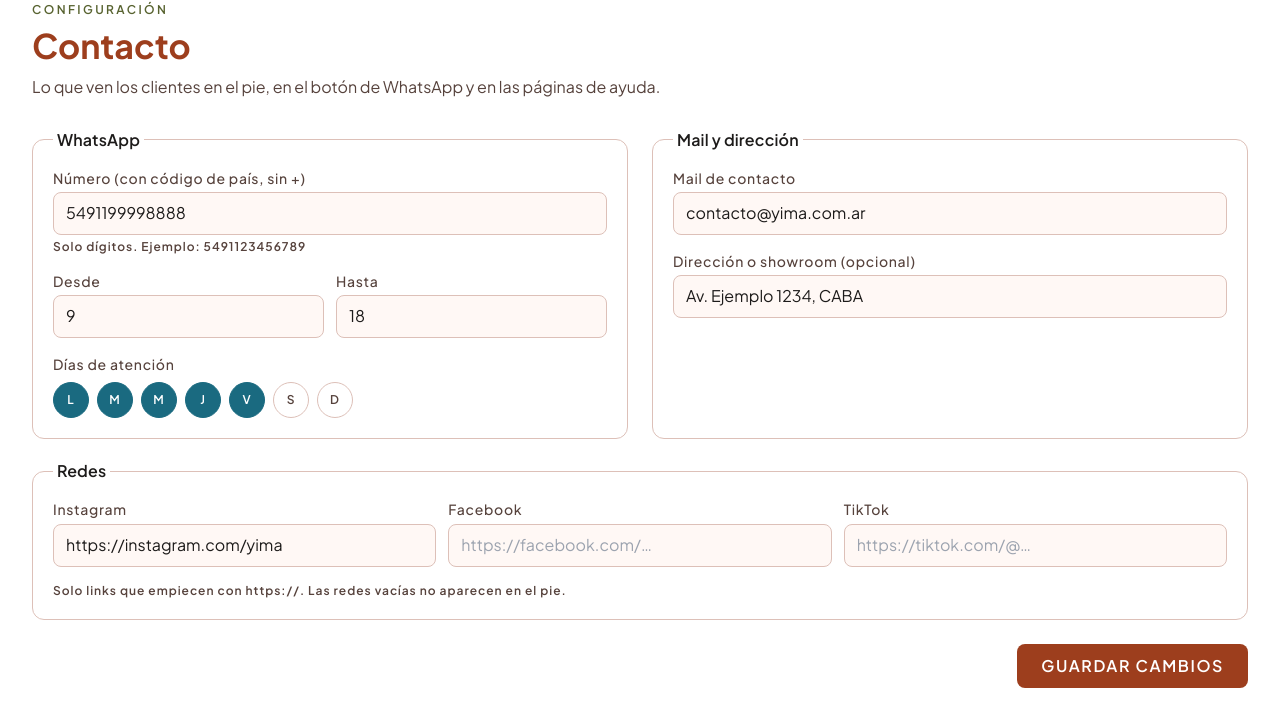
Scenario: AdminContacto — guardar › guarda con los valores del formulario y muestra un toast de éxito
(page scrolled)
Expected: the field labelled "Número (con código de país, sin +)" holds "5491199998888", top-left (53, 192), bottom-right (607, 235)
Click the button "Guardar cambios".
click(1133, 666)  # box top-left (1017, 644), bottom-right (1248, 688)
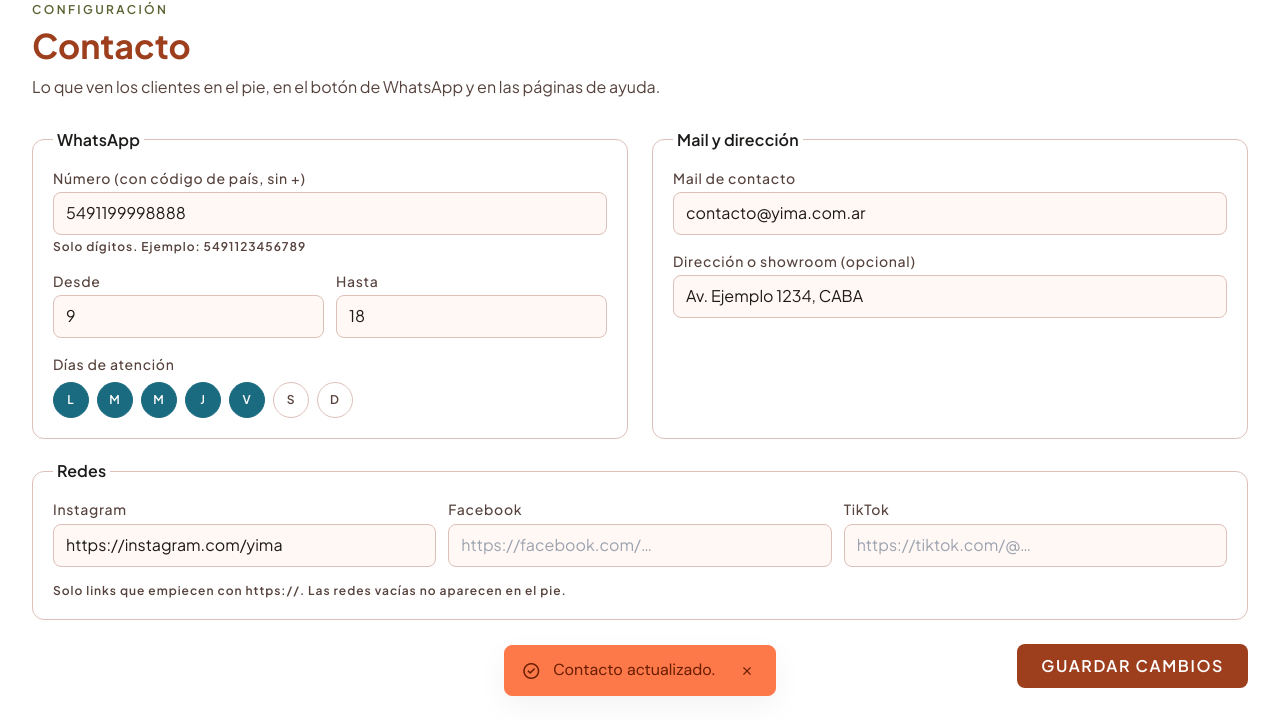
Result: the text "Contacto actualizado." is shown at top-left (553, 658), bottom-right (715, 683)
